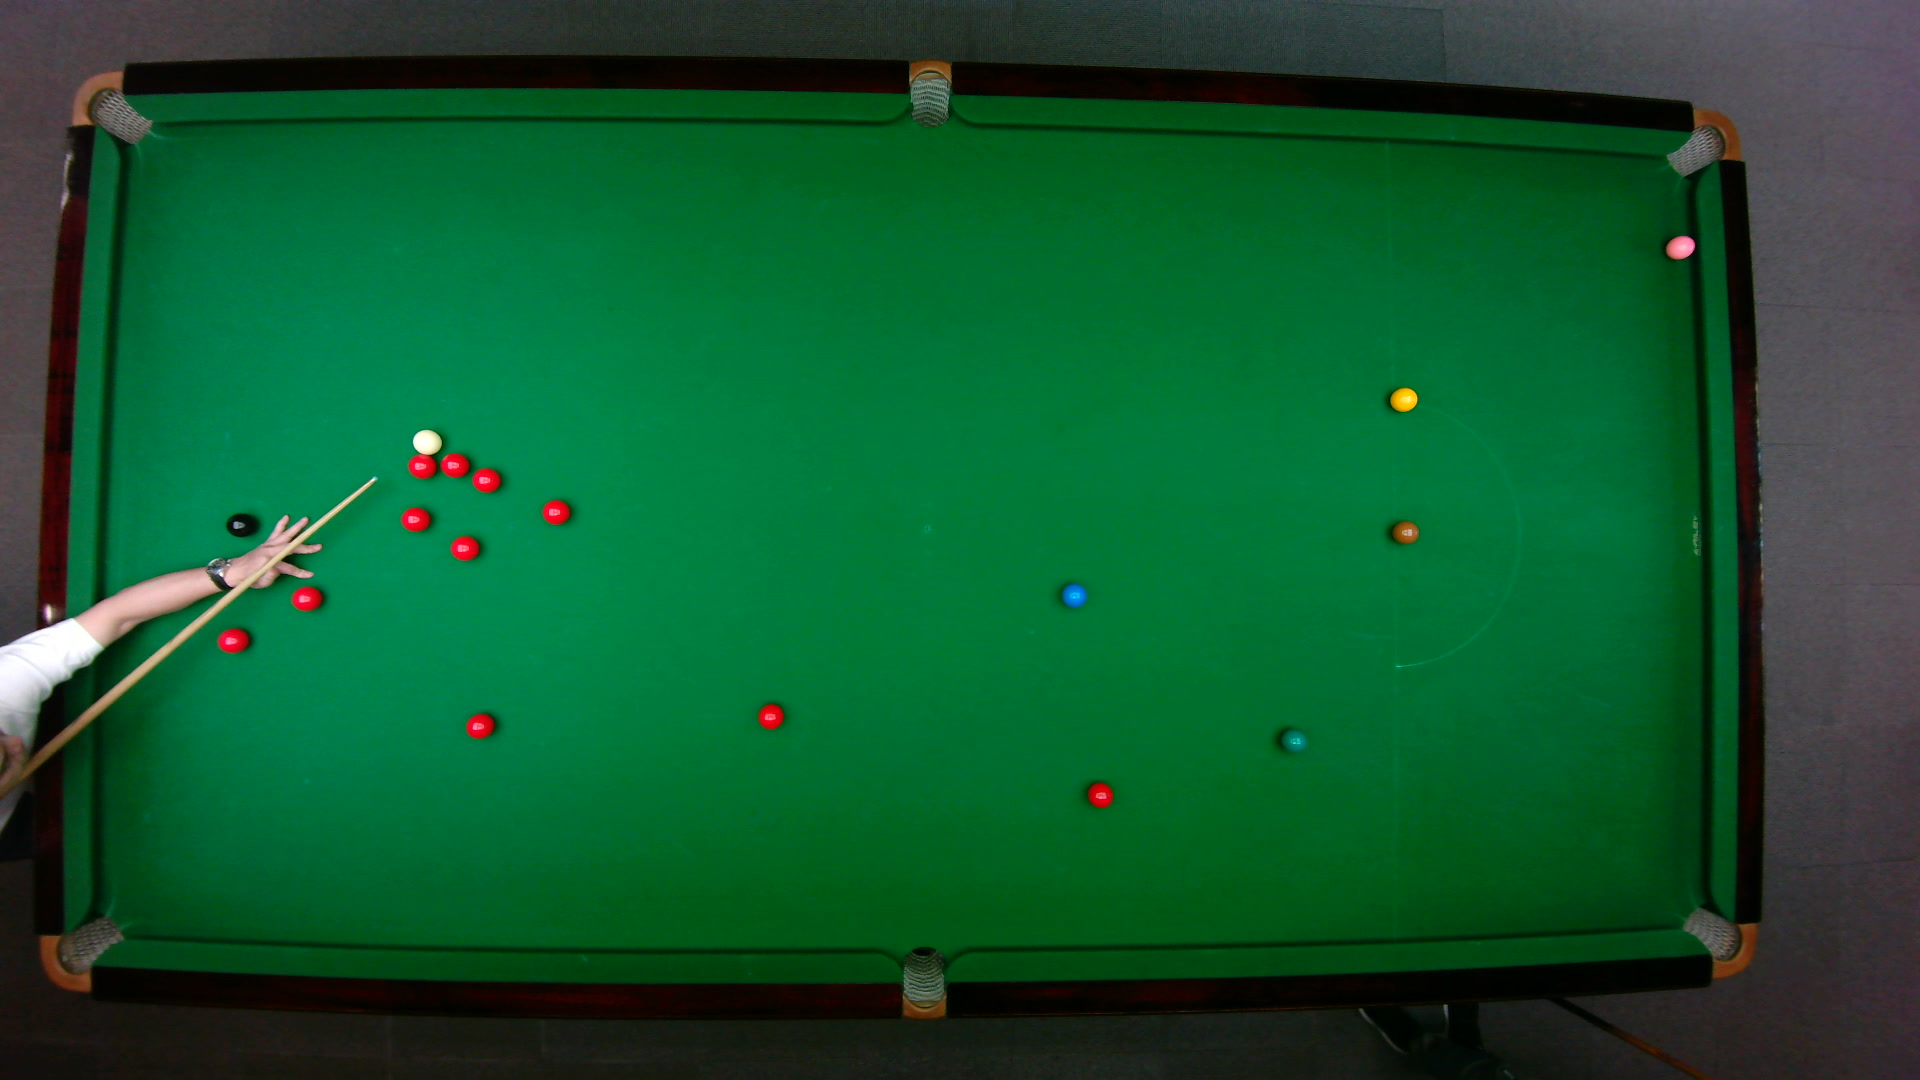bag: (38, 913, 125, 992), (69, 69, 153, 145), (1679, 905, 1756, 978), (1663, 107, 1741, 177), (901, 944, 944, 1021), (909, 57, 949, 128)
black: (224, 512, 255, 537)
blue: (1059, 582, 1087, 608)
brown: (1390, 520, 1419, 545)
cue: (1, 472, 384, 807)
green: (1278, 727, 1308, 752)
pink: (1663, 232, 1697, 260)
red: (215, 626, 251, 653), (290, 584, 323, 612), (463, 711, 495, 738), (448, 533, 480, 560), (439, 450, 469, 477), (398, 505, 430, 531), (469, 465, 501, 492), (1085, 781, 1114, 808), (756, 702, 785, 729), (541, 498, 571, 525), (406, 454, 436, 477)
white: (410, 427, 442, 455)
yellow: (1387, 385, 1418, 411)
zone: (1390, 400, 1520, 667)
